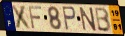8: (48, 6, 64, 31)
B: (95, 6, 113, 33)
F: (27, 5, 43, 30)
N: (78, 7, 98, 32)
P: (61, 5, 77, 32)
X: (11, 5, 33, 31)
